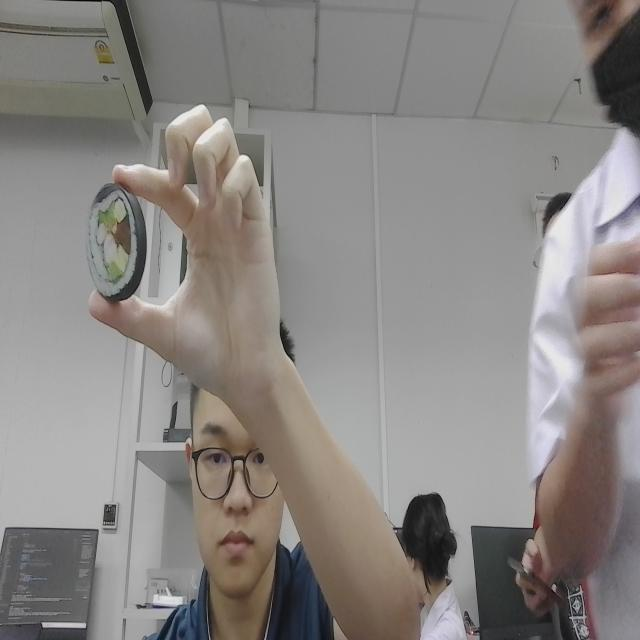sushi: (79, 171, 151, 316)
